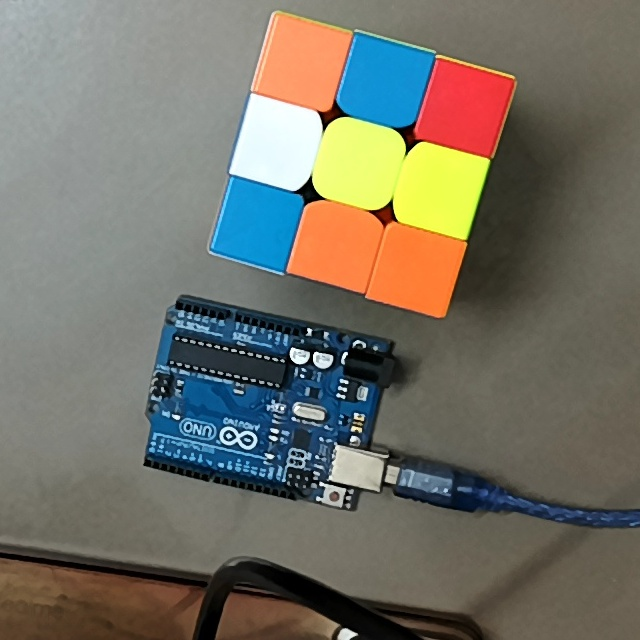tile: (325, 129, 391, 193), (248, 112, 309, 176), (305, 215, 367, 276), (271, 34, 335, 93), (385, 238, 448, 297), (354, 50, 417, 108), (433, 80, 496, 138), (406, 161, 469, 219), (228, 197, 289, 249)
